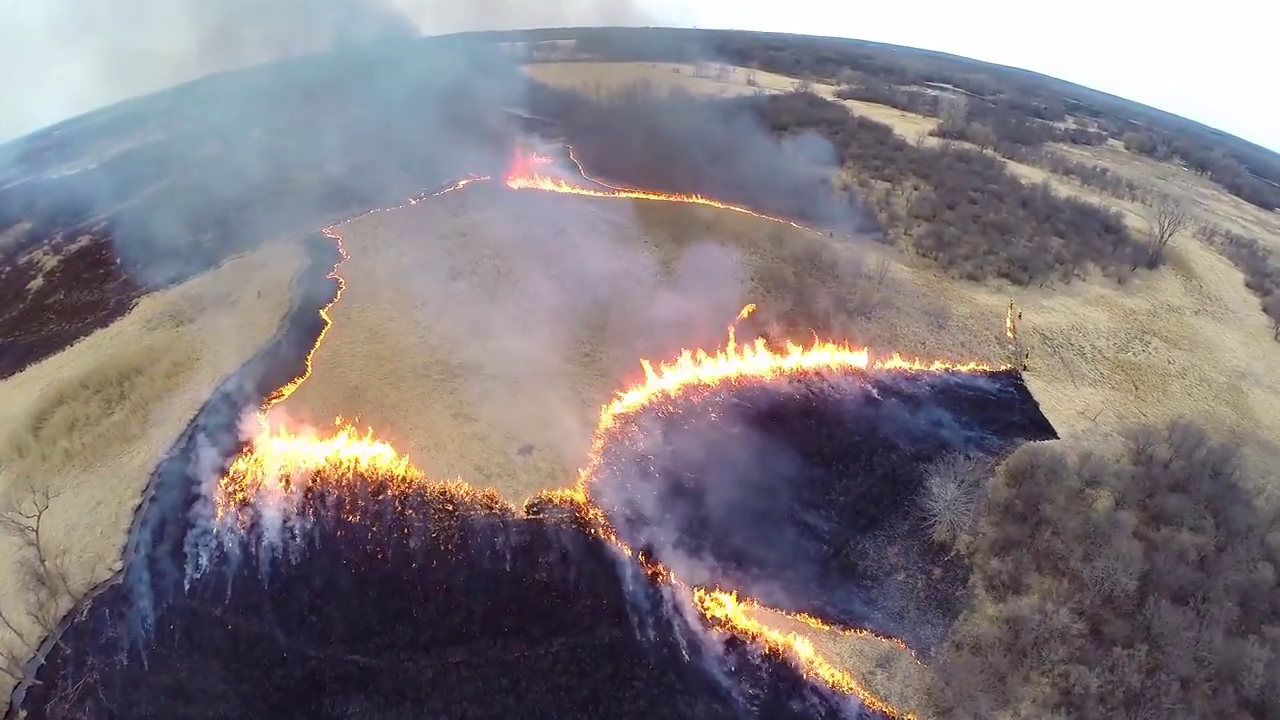forest_fire: (522, 304, 1010, 719), (215, 218, 512, 517), (501, 147, 807, 229), (407, 176, 496, 204)
